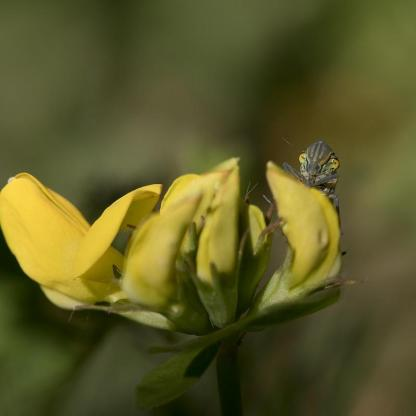Green-Leafhopper: (285, 132, 353, 261)
